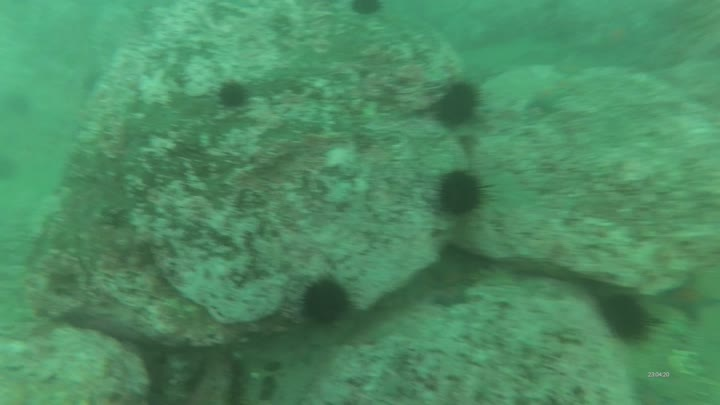echinus: (433, 170, 493, 219), (301, 277, 355, 329), (602, 293, 655, 343), (437, 81, 483, 130), (219, 81, 248, 109), (351, 1, 385, 17), (83, 68, 103, 94), (8, 97, 33, 117), (2, 157, 18, 182)
holothurian: (159, 355, 197, 405), (229, 359, 263, 405)
starfish: (654, 282, 720, 319), (604, 21, 638, 50), (530, 88, 568, 113), (435, 283, 471, 308), (442, 267, 476, 288)
